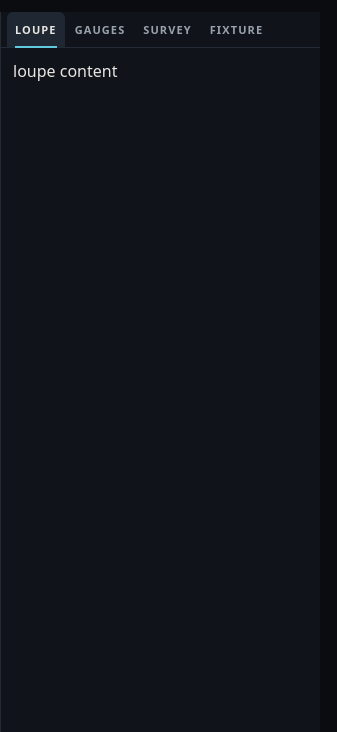
it: PropertiesColumn › renders a Fixture tab when fixture content is provided, and switches to it on click
Click the tab "Fixture".
click(236, 30)  # box top-left (202, 12), bottom-right (271, 47)
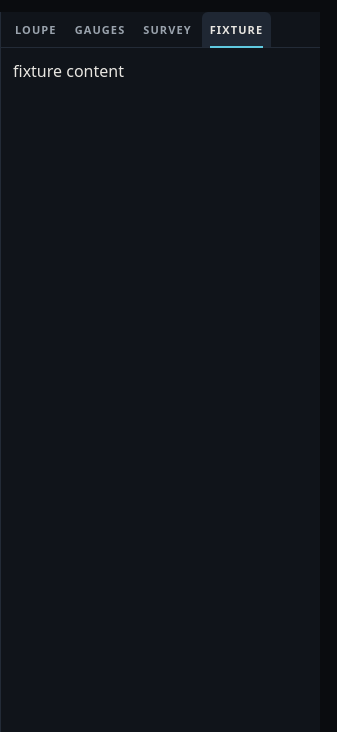
Expected: the text "fixture content" is shown, top-left (13, 60), bottom-right (124, 82)
Expected: the text "loupe content" is gone
